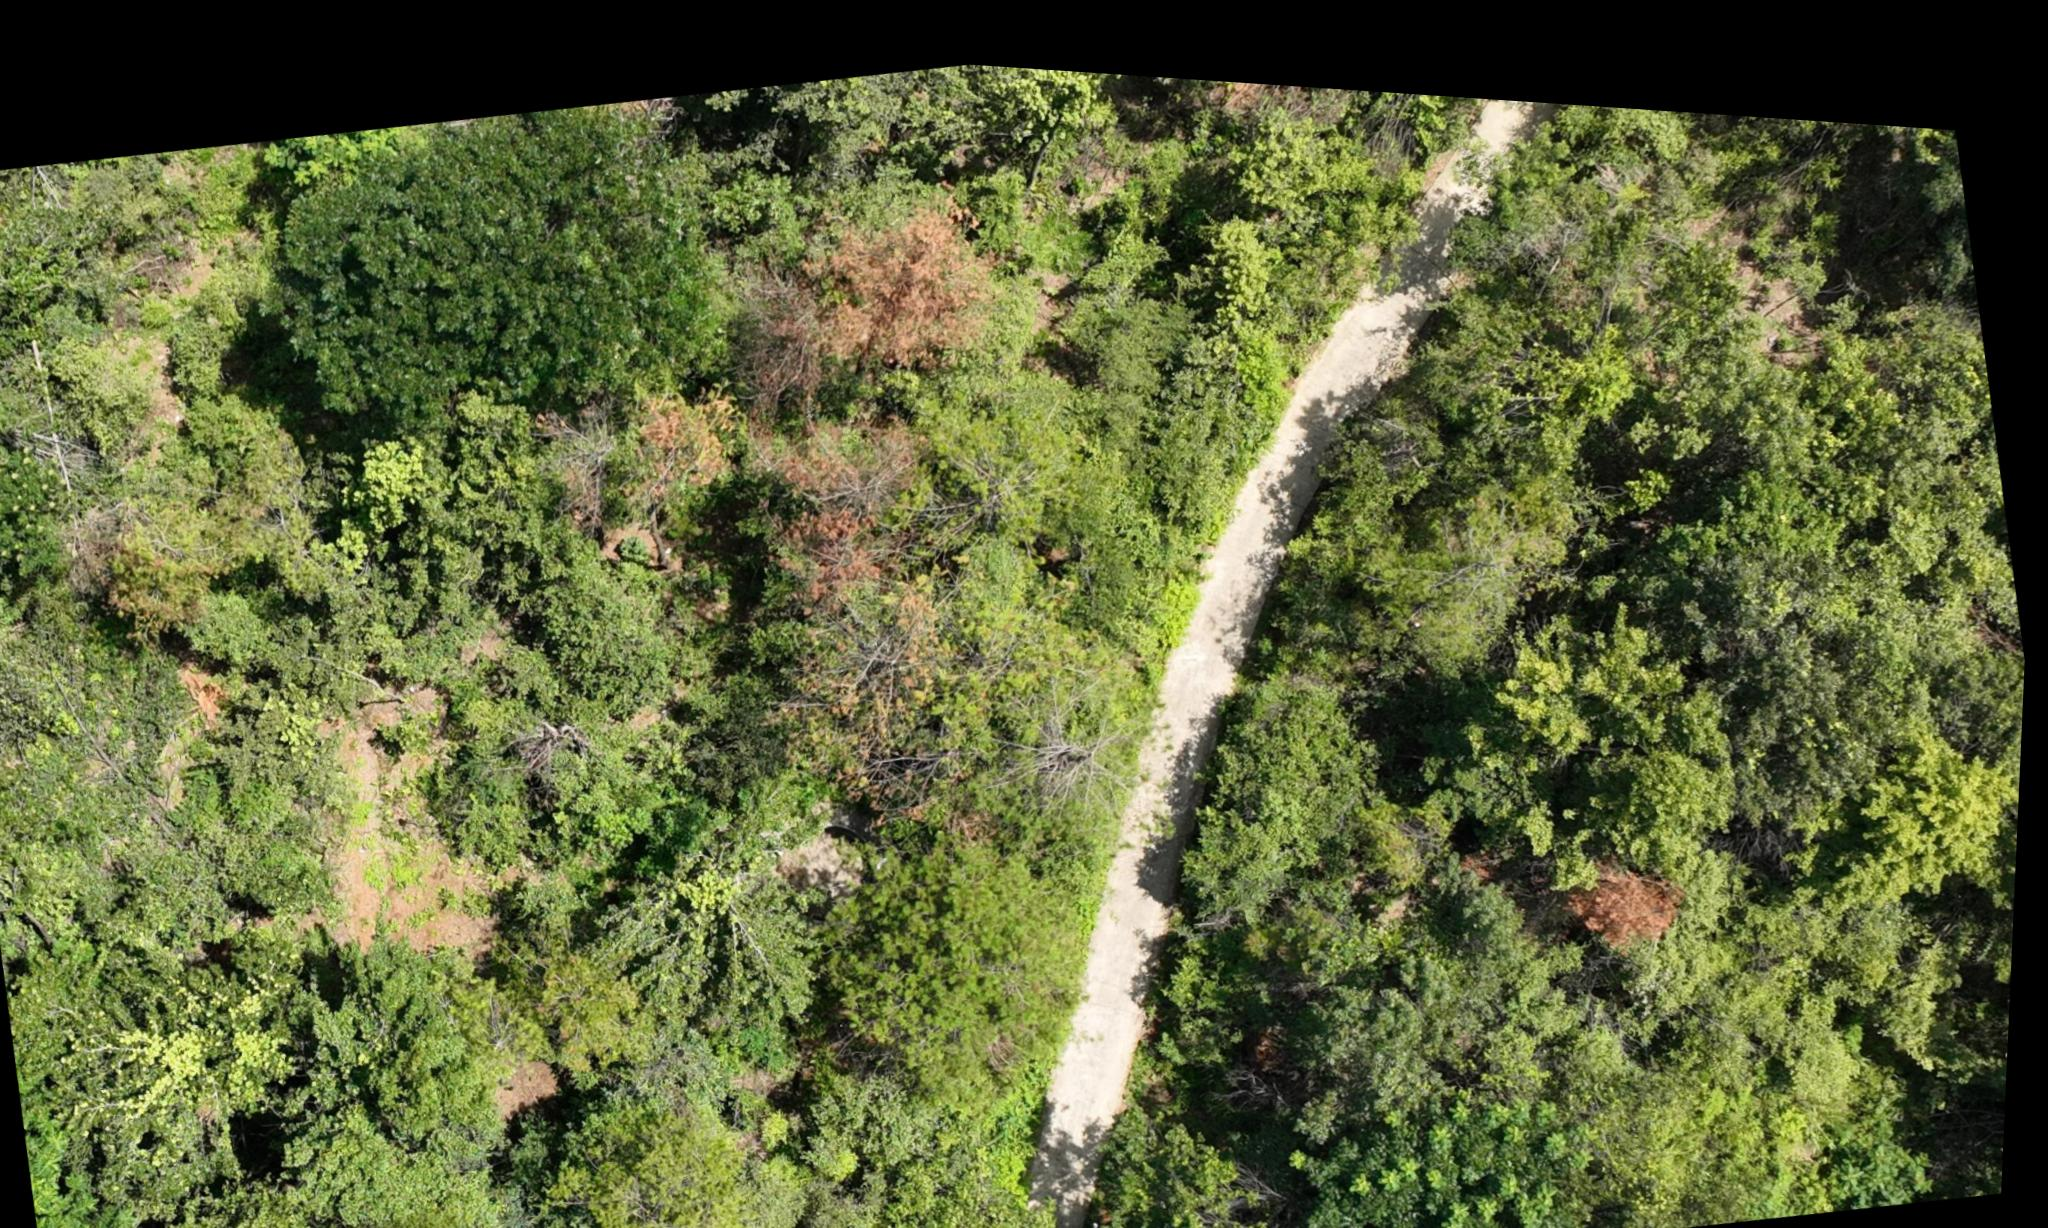dead: (991, 672, 1156, 803)
heavy: (731, 181, 1004, 401), (1567, 833, 1700, 936)
